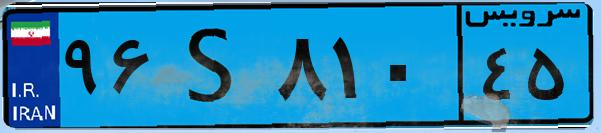0: (385, 28, 445, 110)
1: (330, 28, 385, 110)
4: (475, 38, 525, 113)
5: (525, 38, 570, 115)
6: (110, 28, 158, 98)
8: (270, 28, 330, 110)
9: (57, 26, 110, 100)
S: (158, 12, 270, 120)
